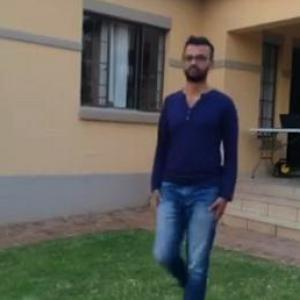follow: (152, 53, 231, 299)
